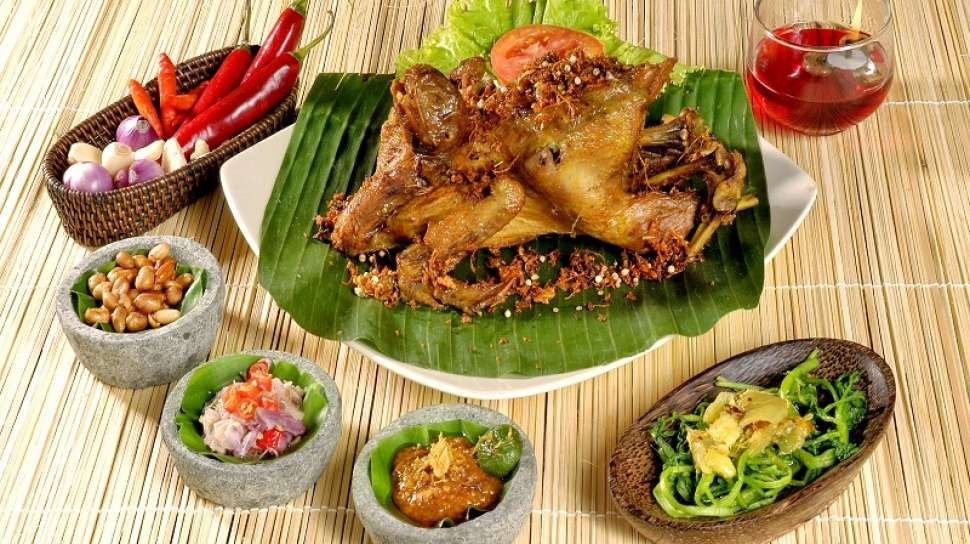ayam_betutu: (332, 72, 745, 308)
